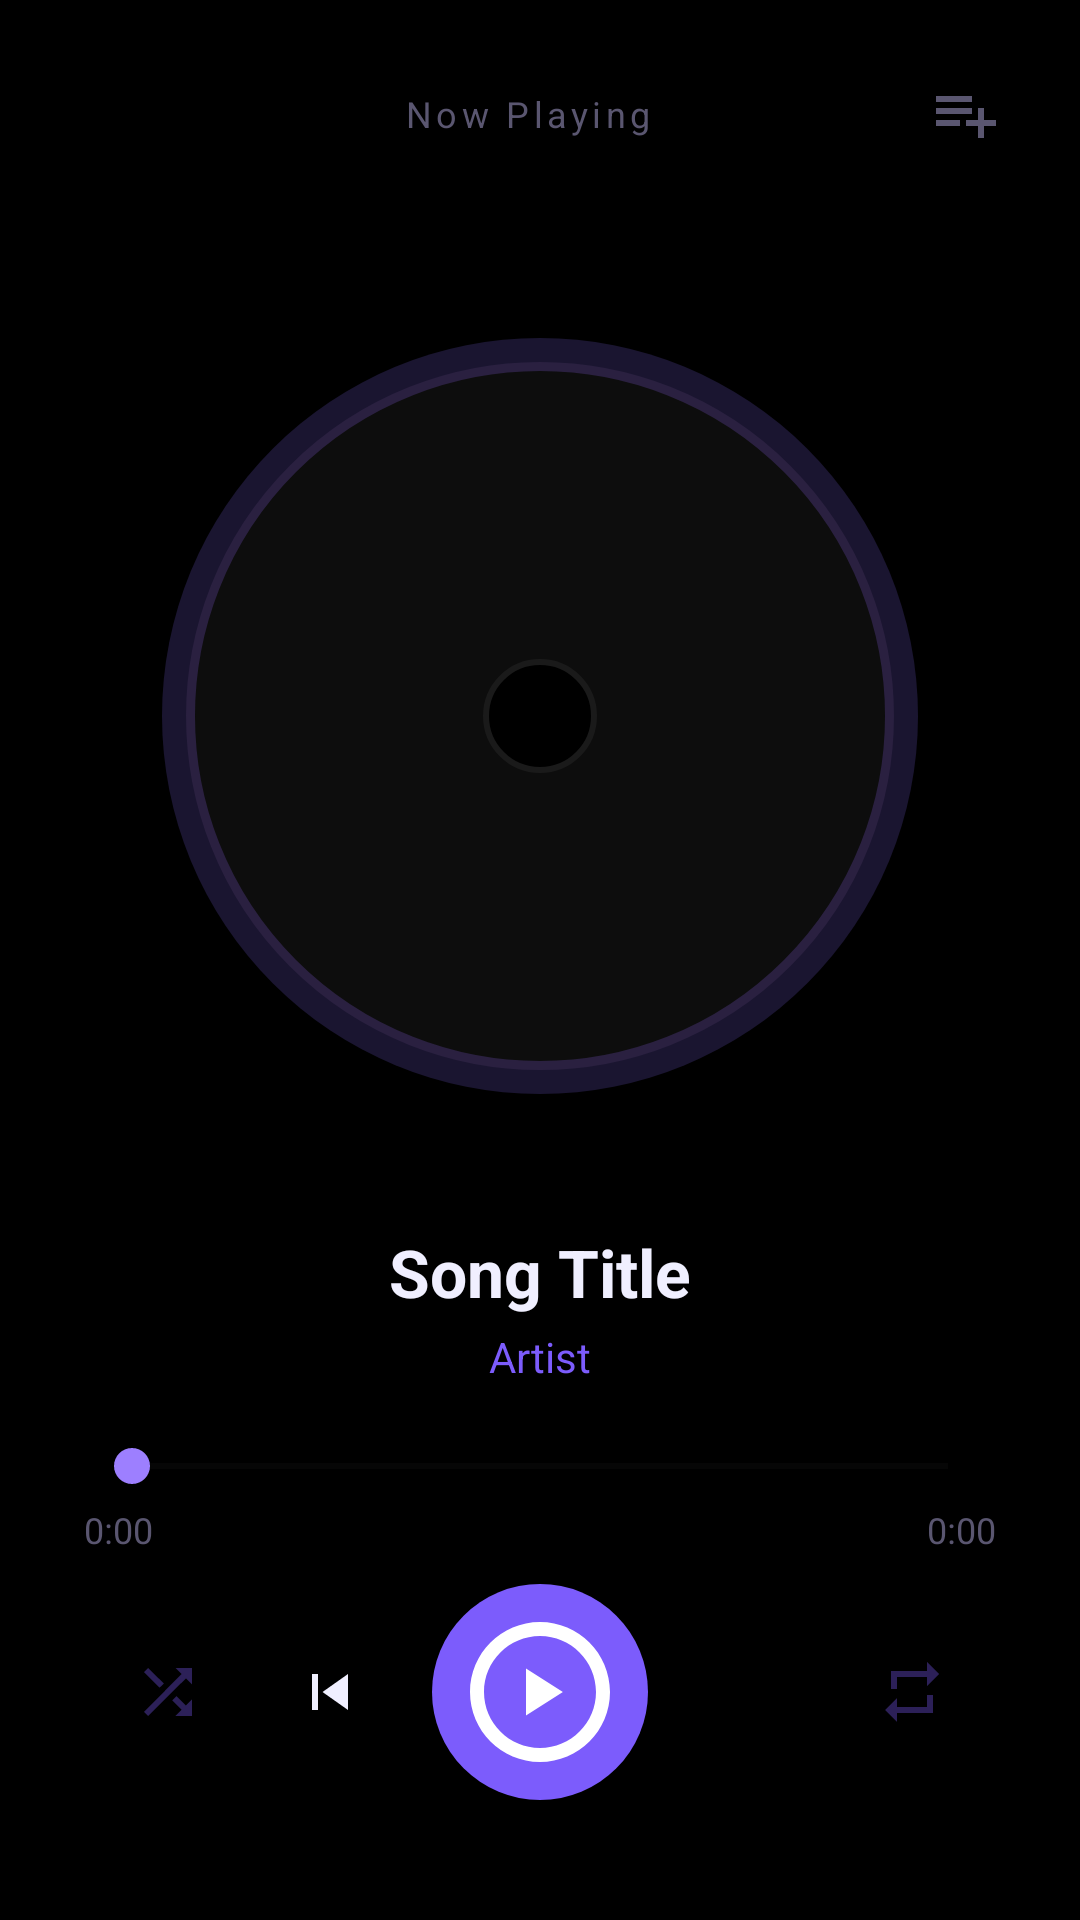

Screen size 1080×1920. Icon name, then its box in pixels as (x1, y1, x2, y2):
Add to playlist: (936, 96, 996, 138)
Play/Pause: (432, 1584, 648, 1800)
Previous: (312, 1674, 348, 1710)
Repeat: (885, 1662, 939, 1722)
Shuffle: (144, 1668, 192, 1716)
